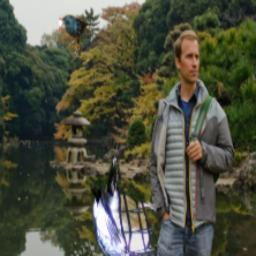Crow: (59, 15, 89, 59)
Woodpecker: (91, 151, 180, 256)
